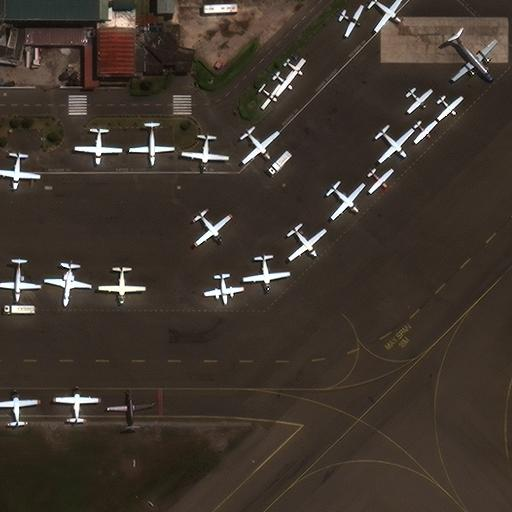Medium Civil Transport: (43, 258, 89, 307), (452, 34, 498, 82), (181, 131, 228, 173), (243, 251, 290, 293), (74, 125, 122, 166), (98, 264, 145, 305), (0, 258, 41, 303), (107, 390, 153, 430), (0, 150, 39, 190), (0, 389, 40, 427), (196, 210, 232, 247), (330, 185, 366, 220), (379, 128, 415, 163), (244, 130, 280, 164), (291, 228, 327, 261), (371, 0, 404, 32)
Small Civil Transport: (129, 121, 173, 165), (54, 385, 99, 423), (205, 273, 243, 305), (339, 6, 364, 37), (408, 89, 433, 114), (438, 97, 464, 121), (369, 170, 394, 194), (273, 73, 296, 97), (259, 86, 281, 110), (415, 122, 438, 144), (285, 60, 305, 80)
